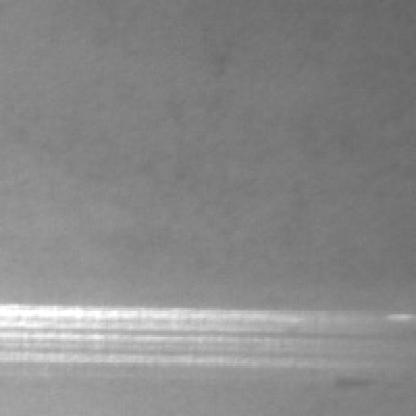scratches: (5, 306, 374, 366)
